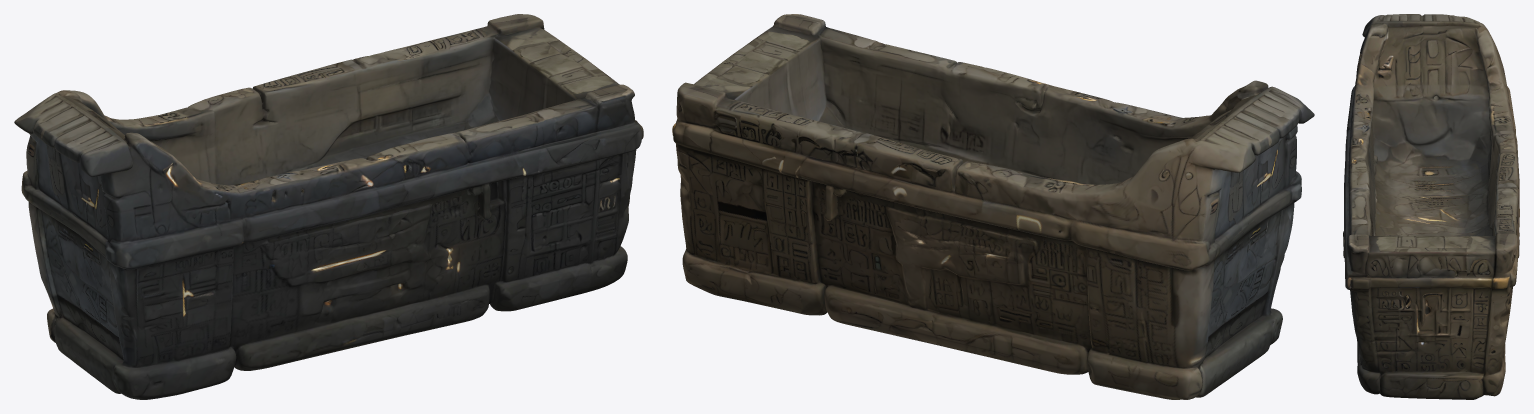
The model's file is prop-chest-ancient.glb.
The picture shows the model from 3 angles, left to right: view 1: azimuth 30°, elevation 25°; view 2: azimuth 150°, elevation 25°; view 3: azimuth 270°, elevation 25°; orthographic projection. The views are drawn at different scales.
Visible parts, largest first — view 1: tripo_node_990042a5-1f31-4f51-a6fb-101695372086; view 2: tripo_node_990042a5-1f31-4f51-a6fb-101695372086; view 3: tripo_node_990042a5-1f31-4f51-a6fb-101695372086.
Part boxes in pixels (<box>): tripo_node_990042a5-1f31-4f51-a6fb-101695372086: <box>14,14,643,399</box>; tripo_node_990042a5-1f31-4f51-a6fb-101695372086: <box>672,14,1314,399</box>; tripo_node_990042a5-1f31-4f51-a6fb-101695372086: <box>1343,14,1519,399</box>.
Bounding box in the file's own units: 2.63 × 1.2 × 0.9761.
1 material, 1 textured.
